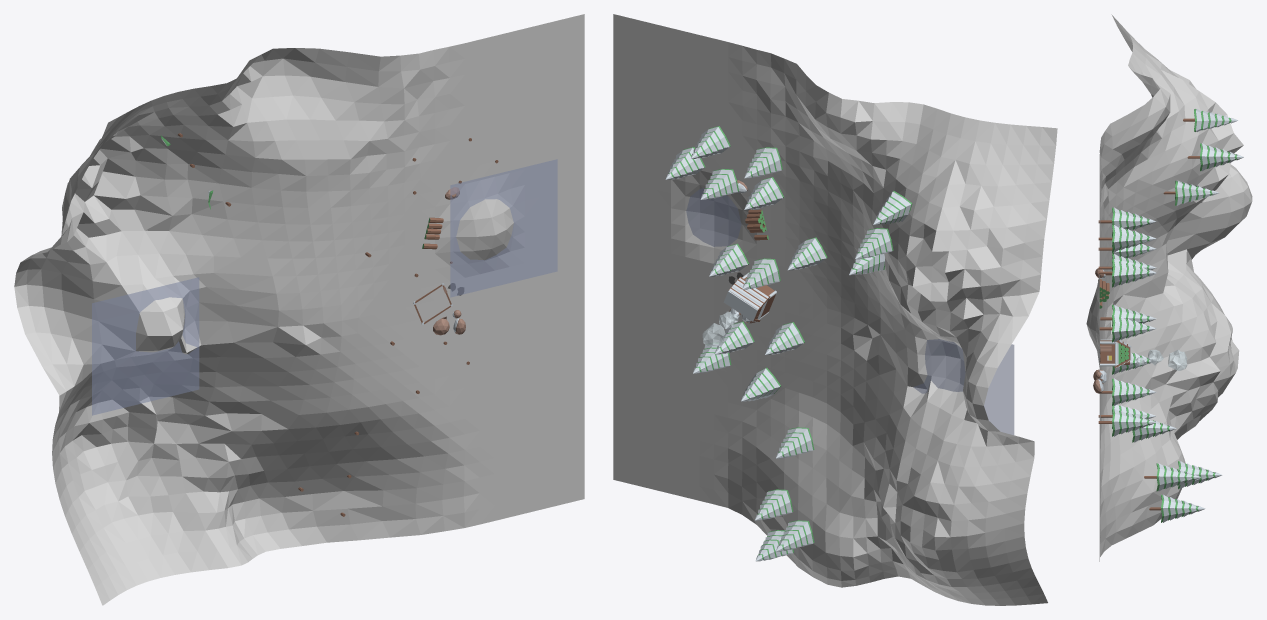
The model's file is snow3.dae.
3 views of the same model, side by side, from view 1: azimuth 30°, elevation 25°; view 2: azimuth 150°, elevation 25°; view 3: azimuth 270°, elevation 25° (orthographic). The views are drawn at different scales.
Visible parts, largest first — view 1: Plane, Plane_003, Plane_001; view 2: Plane, Plane_003, Plane_001, Cylinder_017, Cylinder_004, Cylinder_007, Cylinder_011, Cylinder_015, Cylinder_010, Cylinder_013, Cylinder_000, Cylinder_006 (+9 smaller); view 3: Plane, Cylinder_012, Cylinder_013, Cylinder_003, Cylinder_008, Cylinder_004, Cylinder_014, Cylinder_016, Cylinder_002, Cylinder_005, Cylinder_017, Cylinder_006 (+8 smaller).
Part boxes in pixels (bbox=[...]): Plane: bbox=[14, 14, 584, 605]; Plane_003: bbox=[92, 277, 199, 415]; Plane_001: bbox=[450, 159, 557, 297]; Plane: bbox=[613, 14, 1057, 605]; Plane_003: bbox=[913, 339, 1014, 434]; Plane_001: bbox=[686, 188, 741, 246]; Cylinder_017: bbox=[744, 147, 782, 178]; Cylinder_004: bbox=[855, 228, 893, 259]; Cylinder_007: bbox=[742, 258, 780, 289]; Cylinder_011: bbox=[776, 520, 814, 551]; Cylinder_015: bbox=[700, 169, 738, 199]; Cylinder_010: bbox=[776, 427, 814, 458]; Cylinder_013: bbox=[755, 489, 793, 520]; Cylinder_000: bbox=[765, 322, 804, 354]; Cylinder_006: bbox=[873, 191, 912, 224]; Plane: bbox=[1086, 14, 1252, 561]; Cylinder_012: bbox=[1149, 494, 1205, 522]; Cylinder_013: bbox=[1144, 463, 1200, 491]; Cylinder_003: bbox=[1098, 408, 1156, 436]; Cylinder_008: bbox=[1099, 315, 1156, 342]; Cylinder_004: bbox=[1187, 143, 1243, 171]; Cylinder_014: bbox=[1098, 259, 1156, 286]; Cylinder_016: bbox=[1098, 225, 1156, 252]; Cylinder_002: bbox=[1101, 378, 1156, 405]; Cylinder_005: bbox=[1163, 180, 1218, 205]; Cylinder_017: bbox=[1098, 207, 1156, 234]; Cylinder_006: bbox=[1183, 109, 1238, 131].
Bounding box in the file's own units: 19.33 × 6.92 × 19.27.
